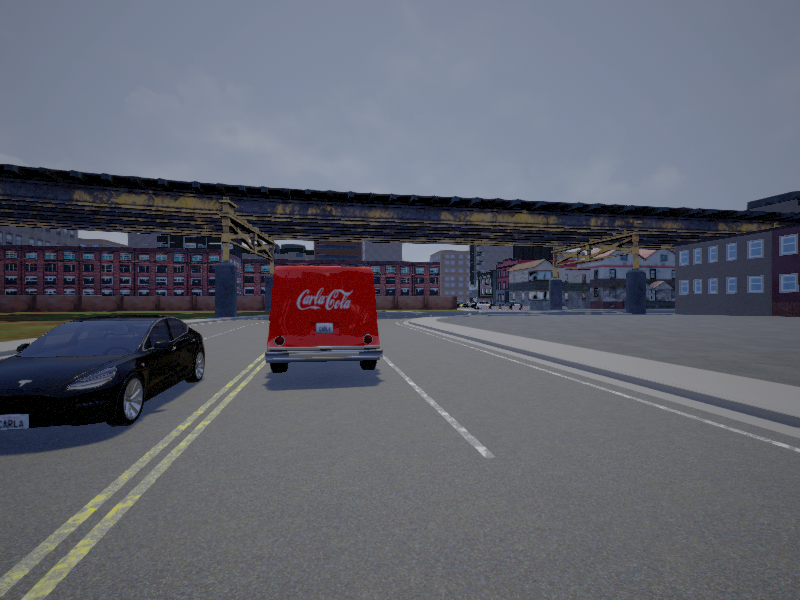Benign: (1, 311, 203, 426), (264, 266, 384, 373)
